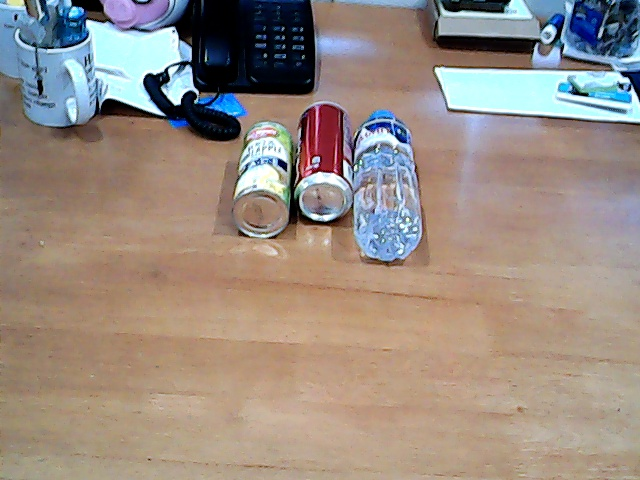Cola: (291, 92, 365, 230)
Pine Juice: (226, 116, 293, 247)
Summit Water: (353, 99, 439, 272)
